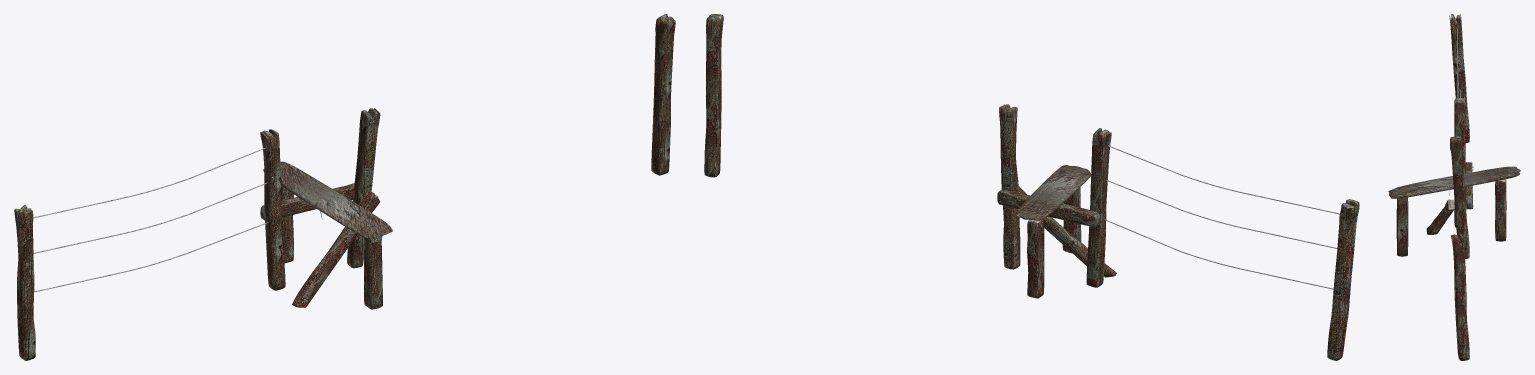
File: FenceAndSty01.fbx
3 views of the same model, side by side, from view 1: azimuth 30°, elevation 25°; view 2: azimuth 150°, elevation 25°; view 3: azimuth 270°, elevation 25° (orthographic). The views are drawn at different scales.
Parts seen in each view (by area): view 1: default; view 2: default; view 3: default.
Part boxes in pixels (x1,y1,x2,y2): default: (14,14,675,360); default: (704,14,1359,360); default: (1388,14,1520,360).
Size of the model in its own units: 1293 by 358 by 288.
